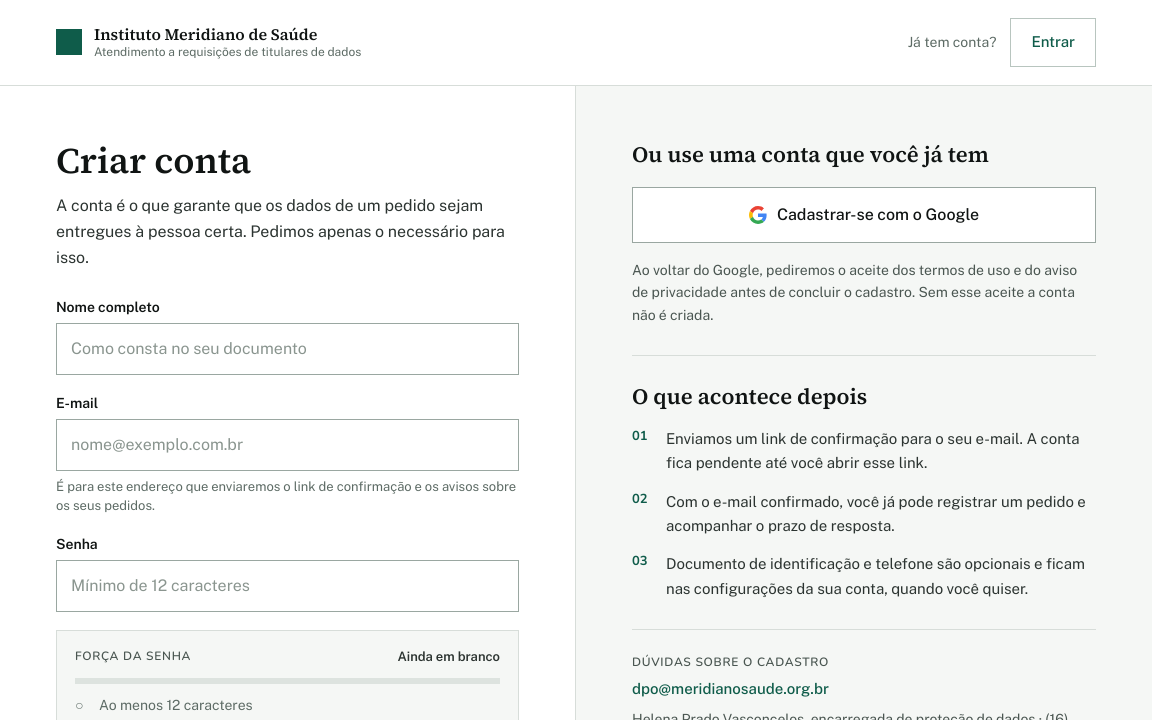
Test: Registro de conta › mostra os critérios do RN002 desde o início e os marca ao digitar
Expected: the text "Ao menos 12 caracteres" is shown, left=99, top=696, right=253, bottom=715
Expected: the text "Ainda em branco" is shown, left=397, top=646, right=500, bottom=666
In the password field with placeholder "Mínimo de 12 caracteres": x=288, y=586 left=56, top=560, right=519, bottom=612, type "SenhaLongaDemais"
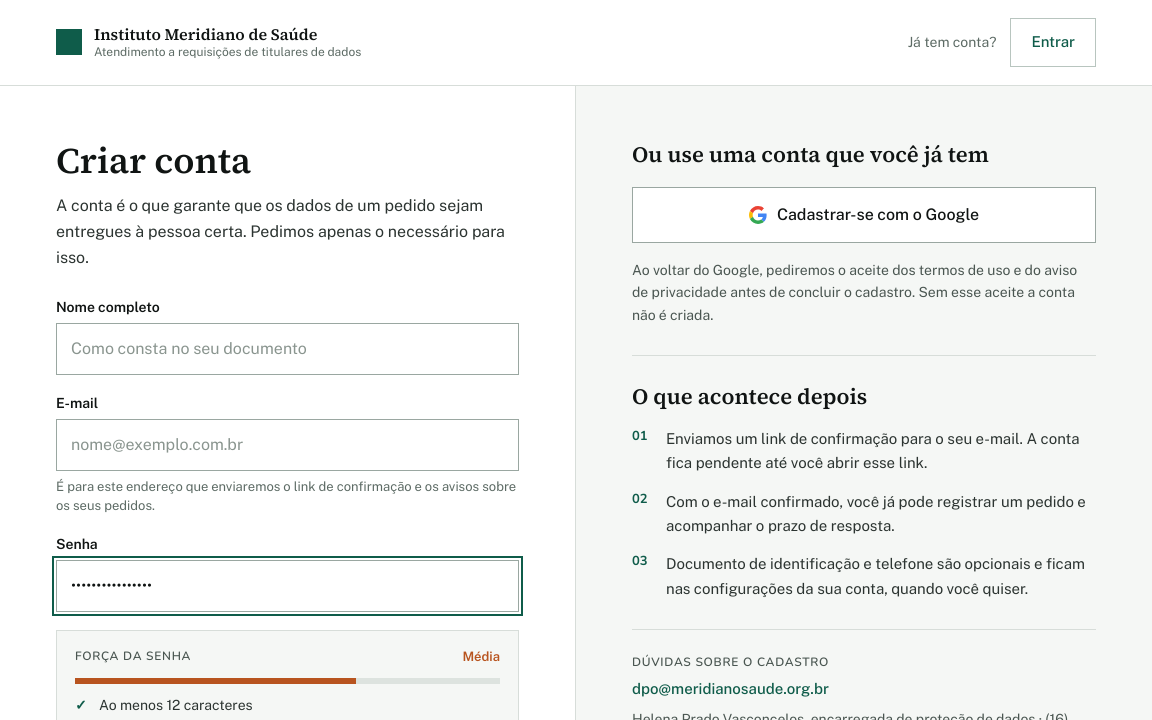
Expected: the text "Média" is shown, left=462, top=646, right=500, bottom=666
In the password field with placeholder "Mínimo de 12 caracteres": x=288, y=586 left=56, top=560, right=519, bottom=612, type "!"
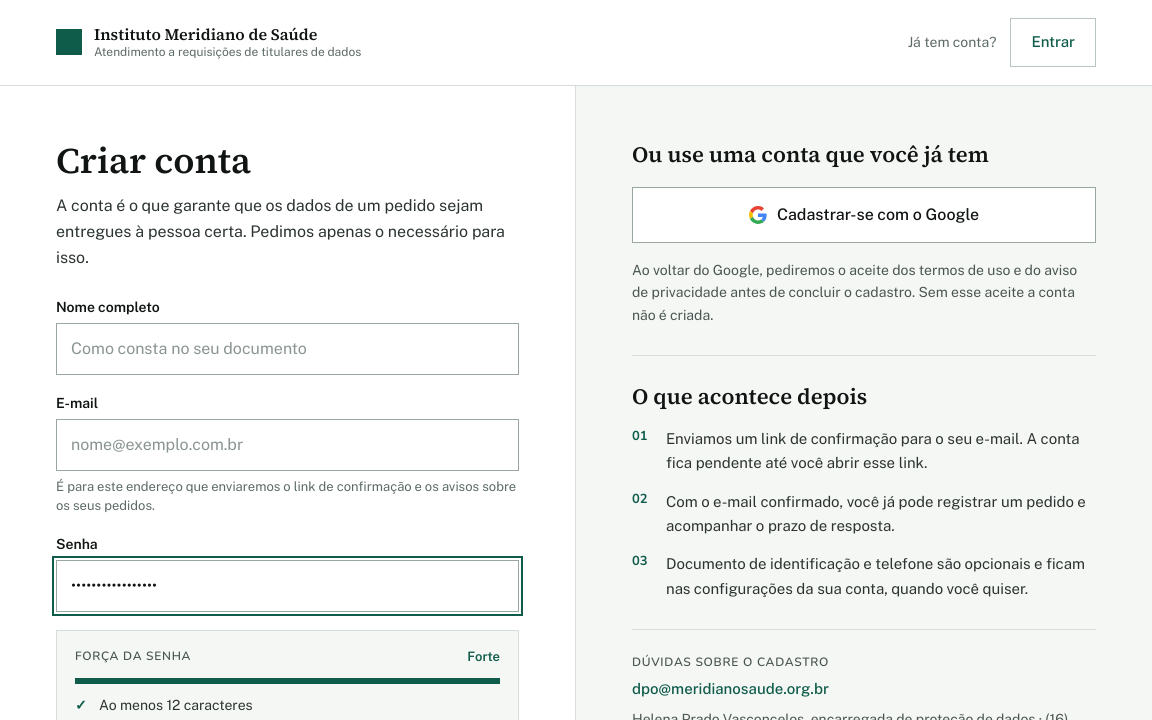
Expected: the text "Forte" is shown, left=467, top=646, right=500, bottom=666
